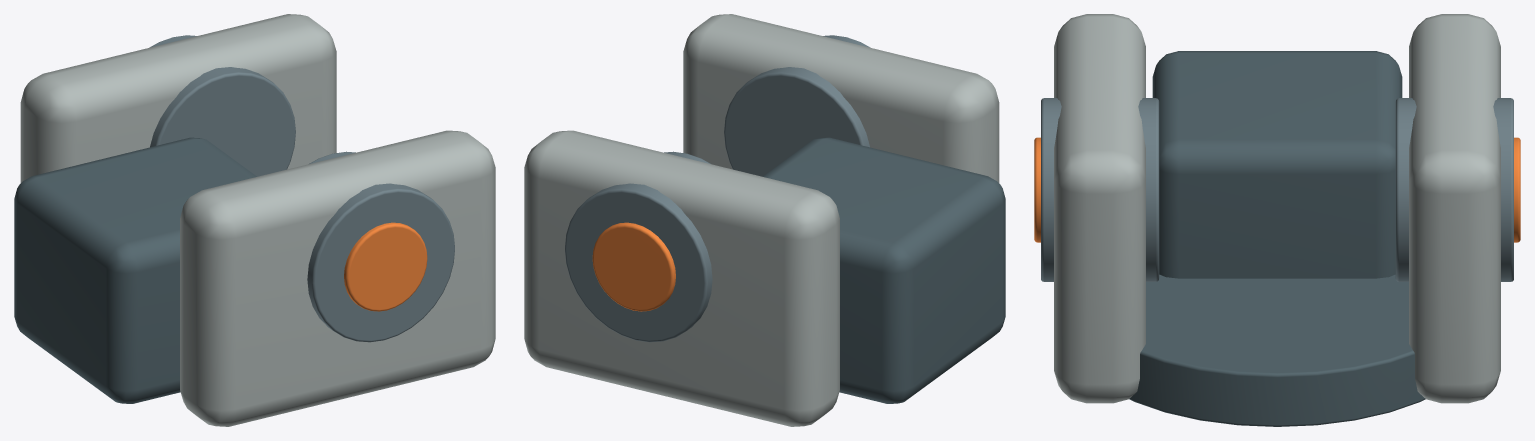
File: SM_Laser_Cradle.fbx
3 renders of one model, left to right at view 1: azimuth 30°, elevation 25°; view 2: azimuth 150°, elevation 25°; view 3: azimuth 270°, elevation 25°, orthographic. The views are drawn at different scales.
Visible parts, largest first — view 1: SM_Laser_Cradle; view 2: SM_Laser_Cradle; view 3: SM_Laser_Cradle.
Part boxes in pixels (box(x1,y1,x2,y2)): SM_Laser_Cradle: box(14, 14, 495, 426); SM_Laser_Cradle: box(524, 14, 1005, 426); SM_Laser_Cradle: box(1034, 14, 1520, 426).
Bounding box in the file's own units: 73.5 × 74 × 42.
